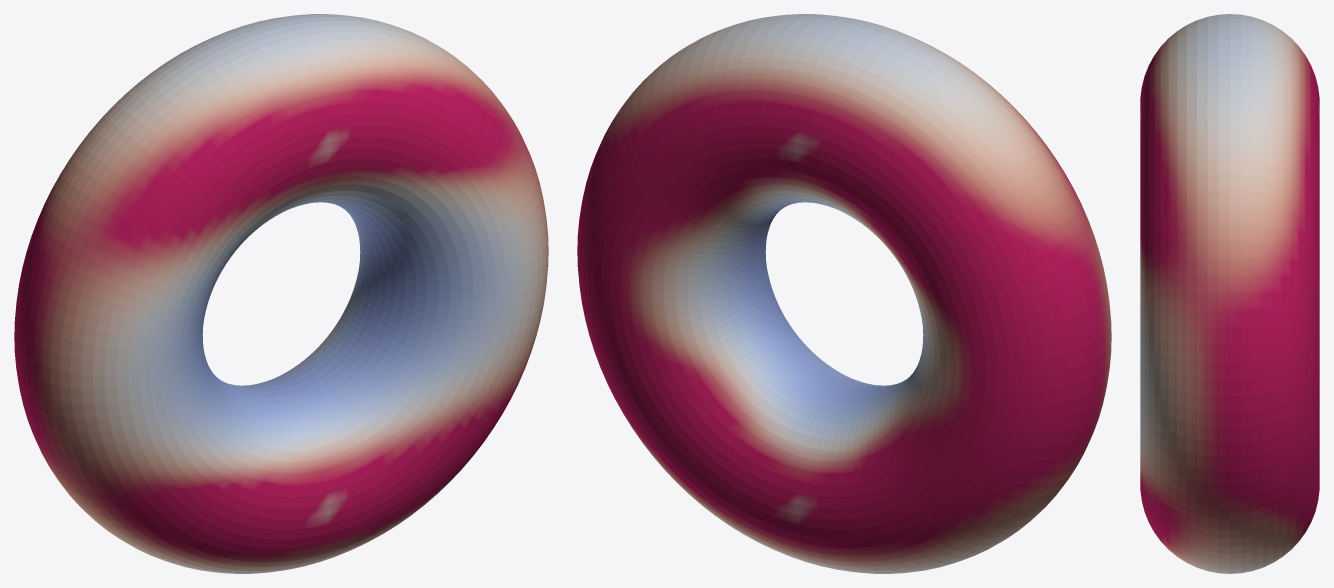
3 renders of one model, left to right at view 1: azimuth 30°, elevation 25°; view 2: azimuth 150°, elevation 25°; view 3: azimuth 270°, elevation 25°, orthographic. The views are drawn at different scales.
Visible parts, largest first — view 1: world; view 2: world; view 3: world.
Part boxes in pixels (left/top/right/bottom): world: left=14, top=14, right=548, bottom=573; world: left=577, top=14, right=1111, bottom=573; world: left=1140, top=14, right=1319, bottom=573.
Bounding box in the file's own units: 24.53 × 24.53 × 7.85.
